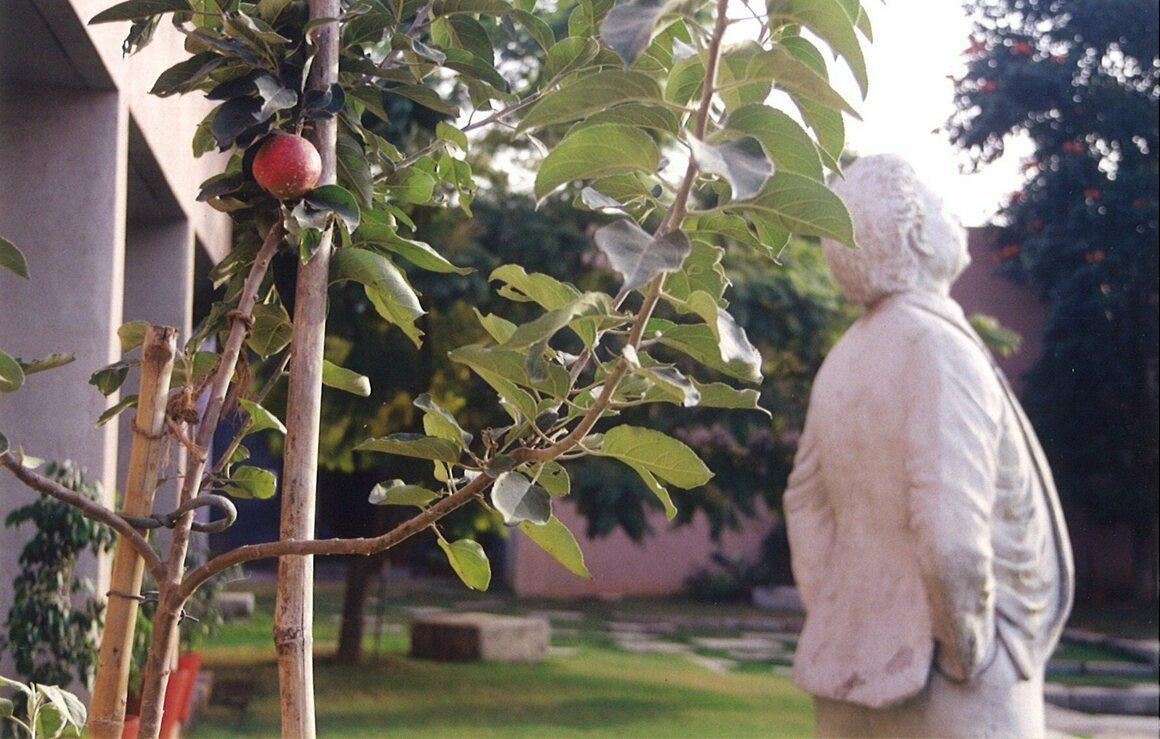apple: (247, 132, 322, 200)
